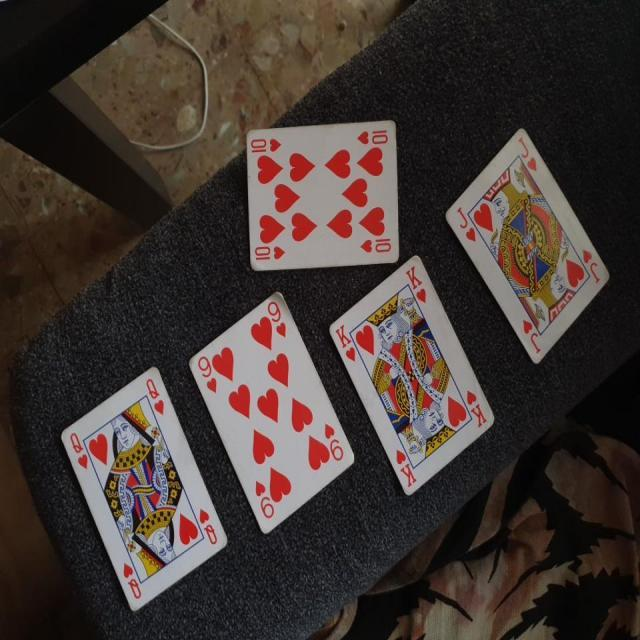10 of hearts: (240, 110, 406, 272)
9 of hearts: (185, 277, 360, 538)
jack of hearts: (433, 124, 612, 370)
king of hearts: (328, 258, 502, 496)
queen of hearts: (54, 362, 230, 624)
